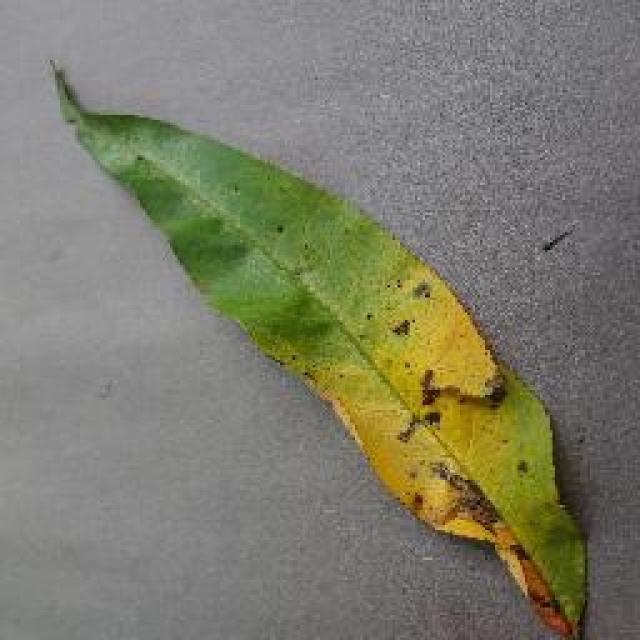Peach_Bacterial_Spot: (315, 252, 590, 586)
